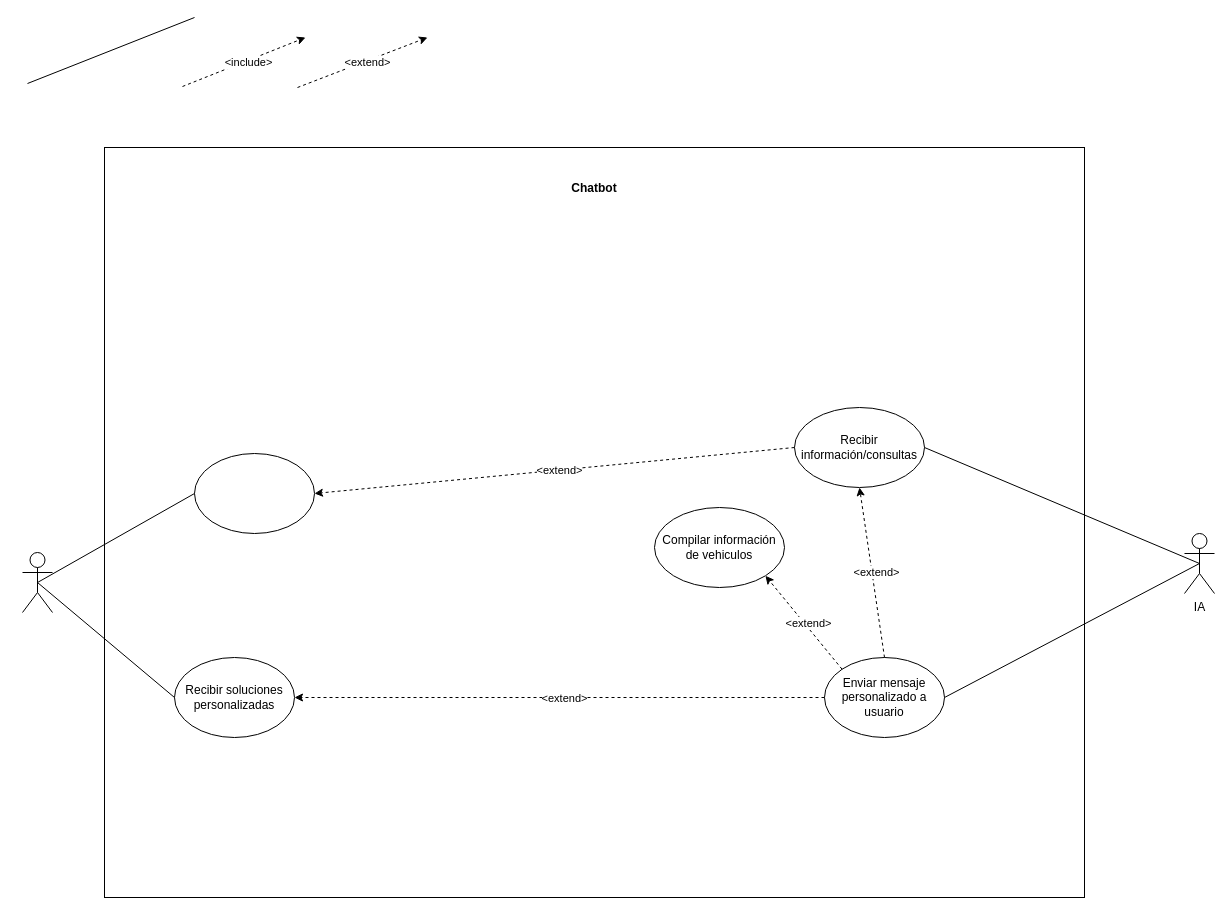
The diagram is 1232 pixels wide and 915 high, and some of its shapes have lost their labels. The box of each missing label's shape, as (x1, y1, x2, y2) in pixels:
Enviar mensaje a IA: (194, 452, 314, 534)
Usuario: (22, 552, 52, 612)
